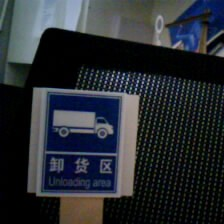unload: (29, 85, 130, 193)
